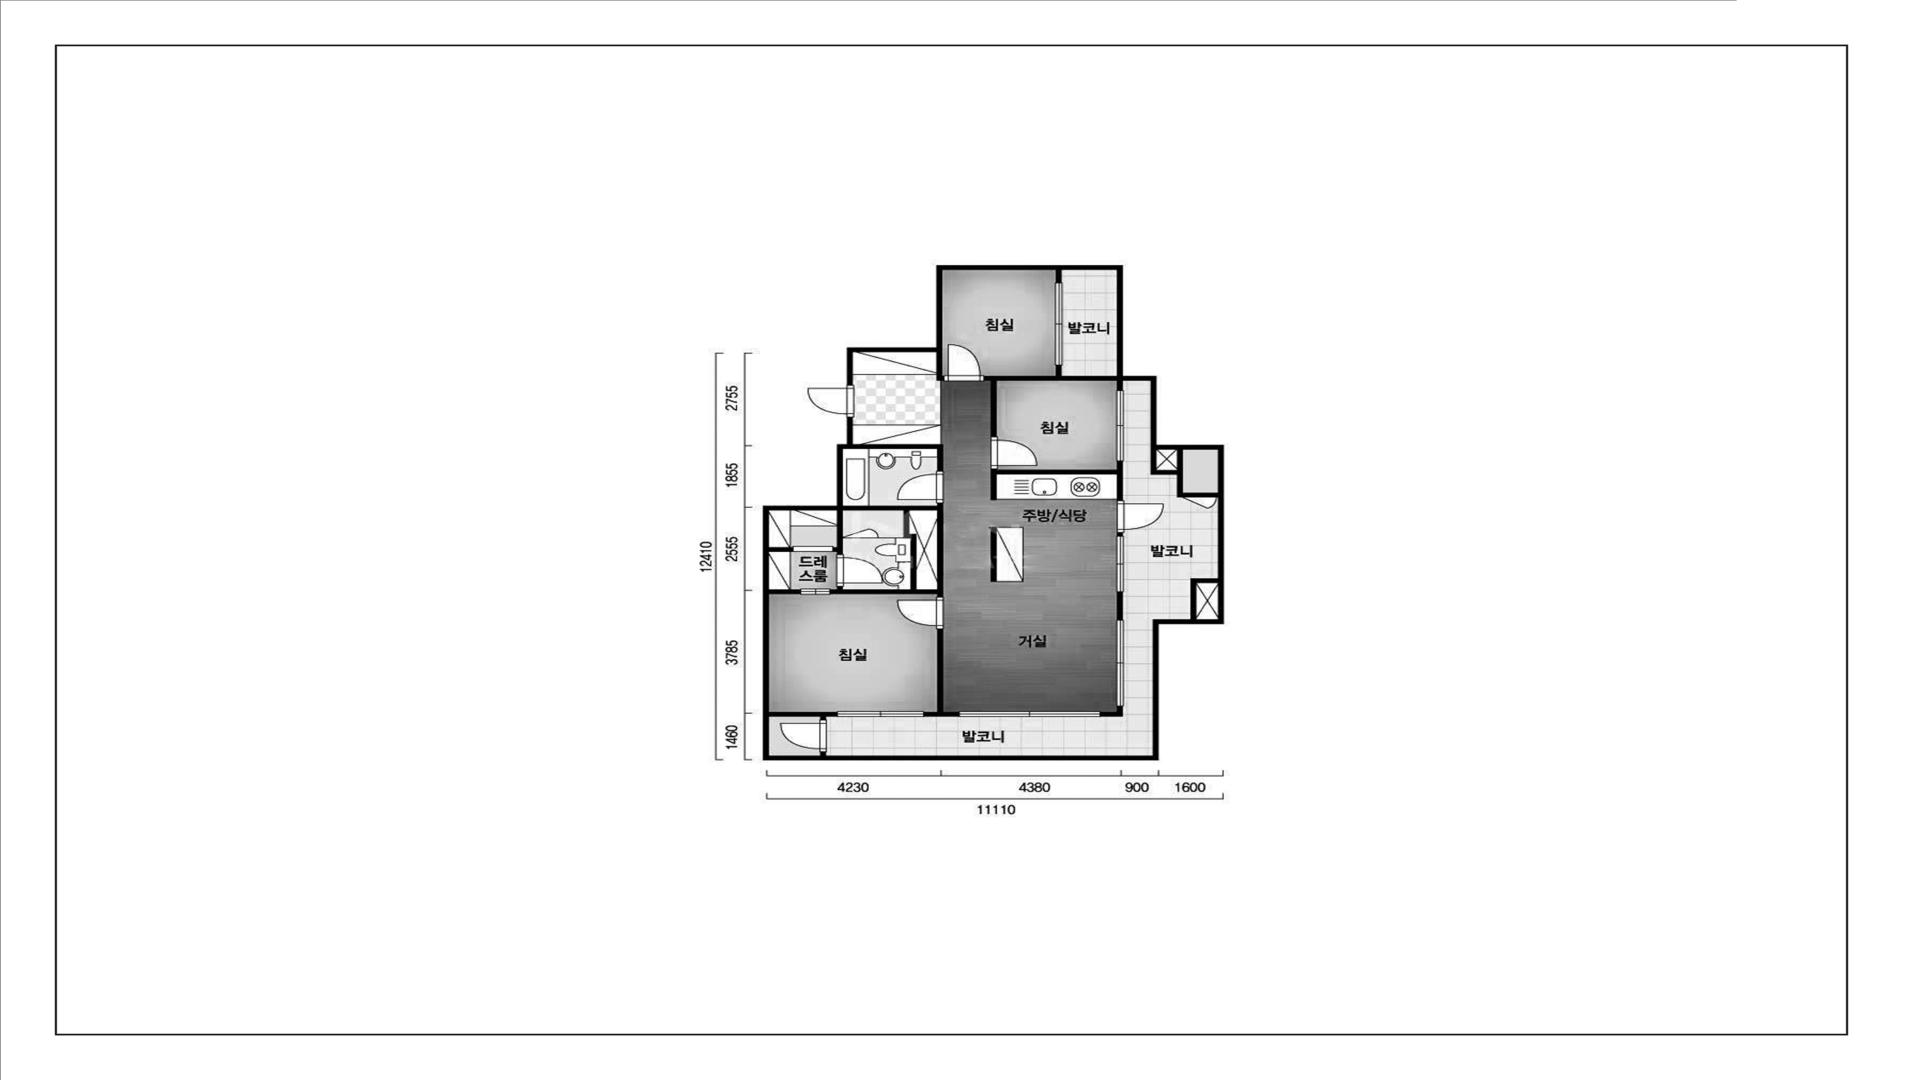door: (943, 344, 985, 382), (895, 471, 944, 504), (990, 436, 1039, 469), (1117, 500, 1164, 533), (806, 385, 855, 417), (895, 597, 944, 629), (778, 720, 827, 752), (836, 555, 884, 587), (1182, 497, 1217, 509)
wall: (762, 265, 1224, 761), (831, 504, 943, 595), (985, 365, 1117, 436), (990, 462, 1124, 500), (1150, 450, 1218, 497), (924, 629, 959, 717), (853, 444, 943, 471), (916, 510, 943, 597), (1189, 578, 1218, 618), (769, 712, 837, 720), (989, 526, 997, 583), (833, 510, 843, 554), (1100, 707, 1124, 717), (936, 352, 943, 381), (769, 589, 800, 595), (1117, 592, 1122, 620), (769, 547, 794, 553), (1055, 270, 1062, 282), (1117, 381, 1124, 390), (820, 752, 825, 756), (1117, 533, 1122, 535)
window: (959, 711, 1100, 717), (1054, 282, 1063, 365), (1116, 620, 1124, 707), (837, 711, 924, 717), (1117, 390, 1125, 462), (1116, 535, 1124, 592), (800, 588, 831, 595)
